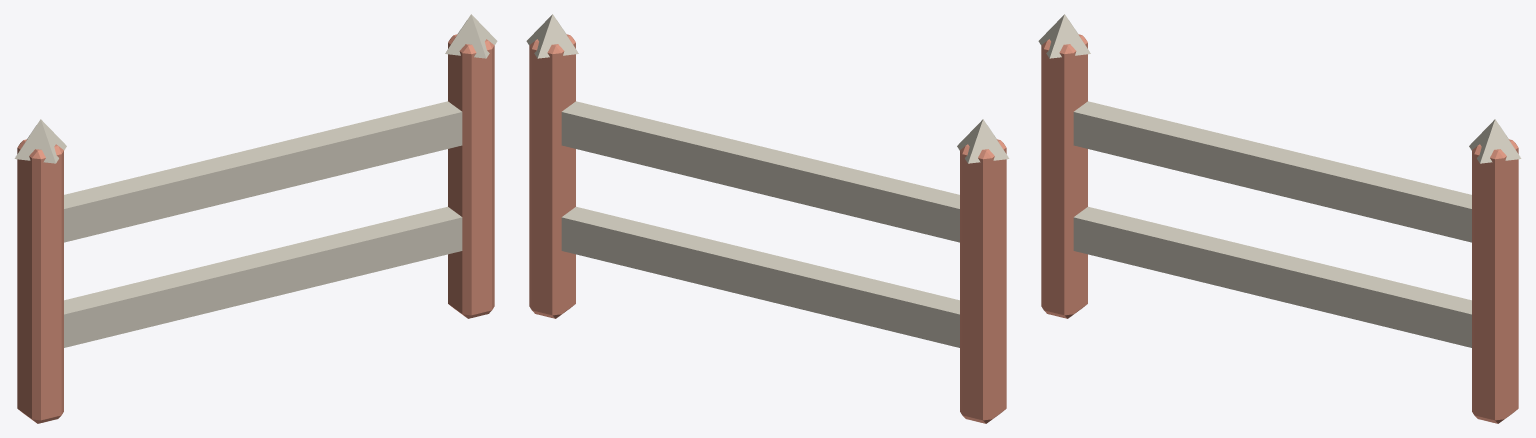
The model's file is fence.glb.
The picture shows the model from 3 angles, left to right: view 1: azimuth 30°, elevation 25°; view 2: azimuth 150°, elevation 25°; view 3: azimuth 330°, elevation 25°; orthographic projection.
Visible parts, largest first — view 1: fence; view 2: fence; view 3: fence.
Boxes of the visible parts, left/top/right/bottom form: fence: left=14, top=14, right=497, bottom=423; fence: left=526, top=14, right=1009, bottom=423; fence: left=1038, top=14, right=1521, bottom=423.
Bounding box in the file's own units: 2.11 × 1.24 × 0.23.
